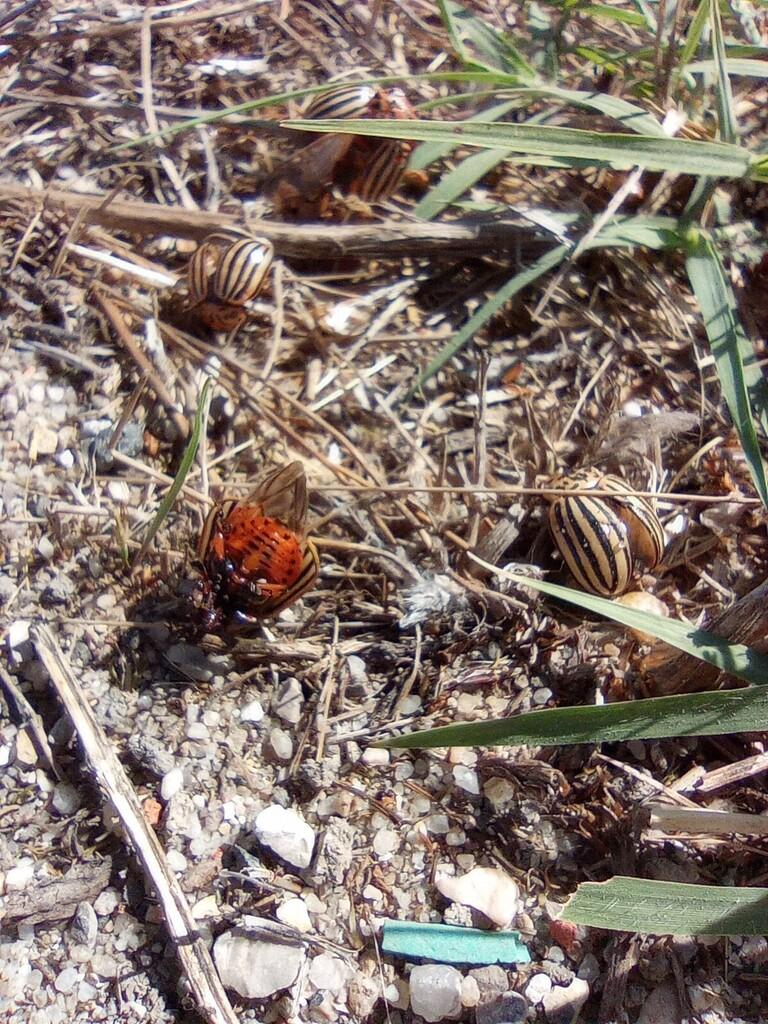potato_beetle: (136, 435, 376, 681), (525, 444, 699, 625), (157, 204, 318, 352)
